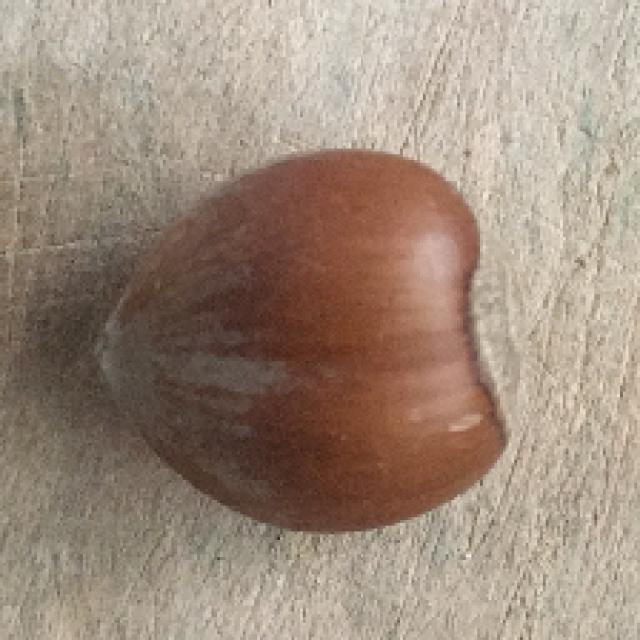qualityHazelnut: (94, 146, 524, 532)
